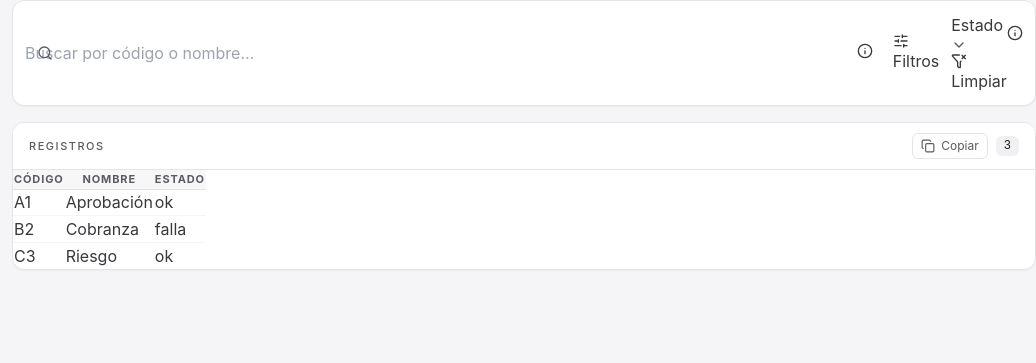
Test: LocalListTable · el formato homogéneo de un catálogo cerrado › dice «nada coincide» distinto de «no hay datos»
In the field labelled "Buscar por código o nombre…": x=149, y=53 [25,41,273,65], type "zzz"
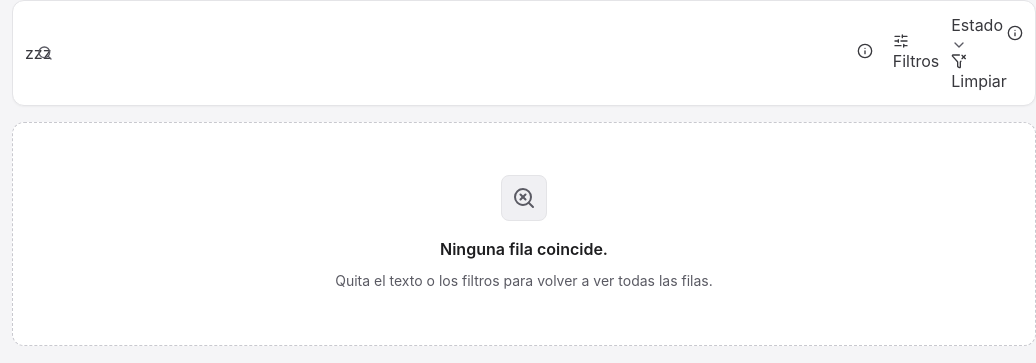
Now the heading "Ninguna fila coincide." is shown, box [440,237,608,261]
Now the table is gone
